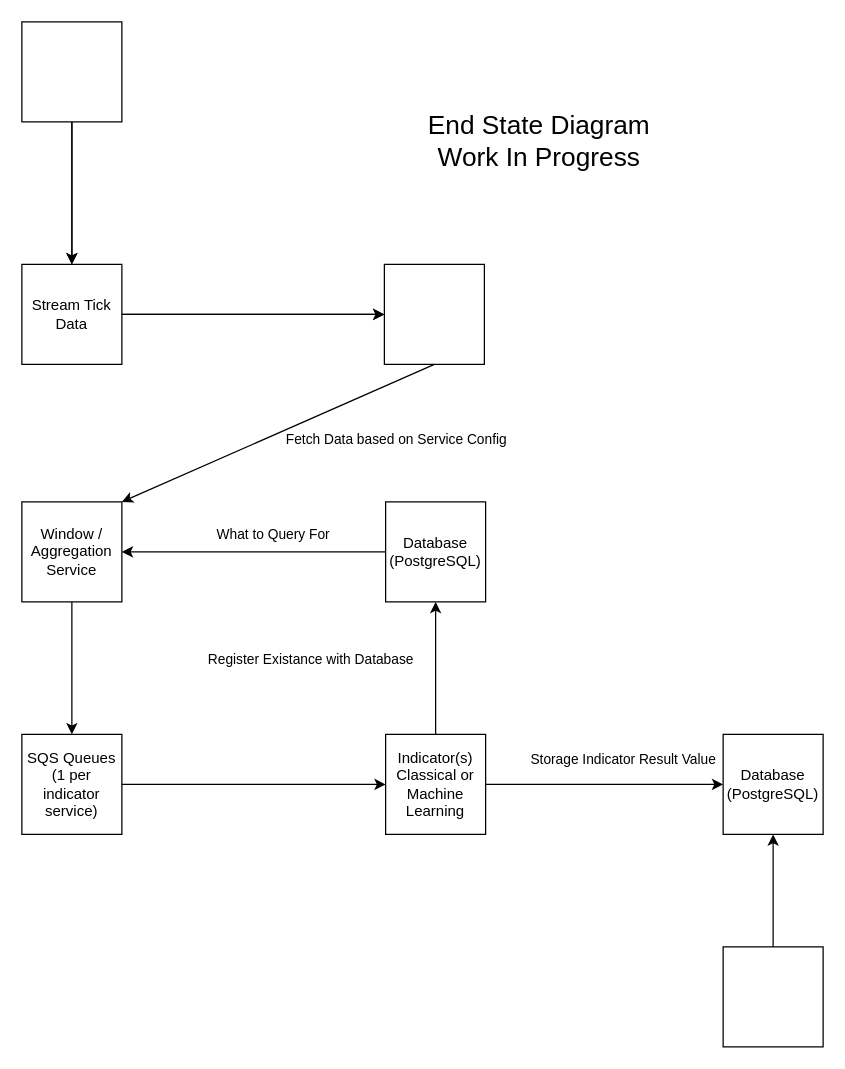
This 845x1069 diagram has some shape labels left out. The centre of each missing label's shape, as x and y in pixels:
"Database (Timescale DB)" belongs at (433,313).
"Financial Data Provider" belongs at (71,71).
"UI Displays Indicators per Financial Instrument Registered" belongs at (772,996).
